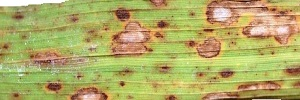RiceBrownSpot: (29, 3, 297, 100)
